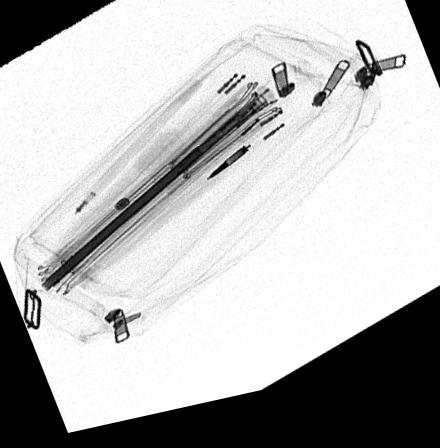Bullet: (205, 154, 248, 190)
